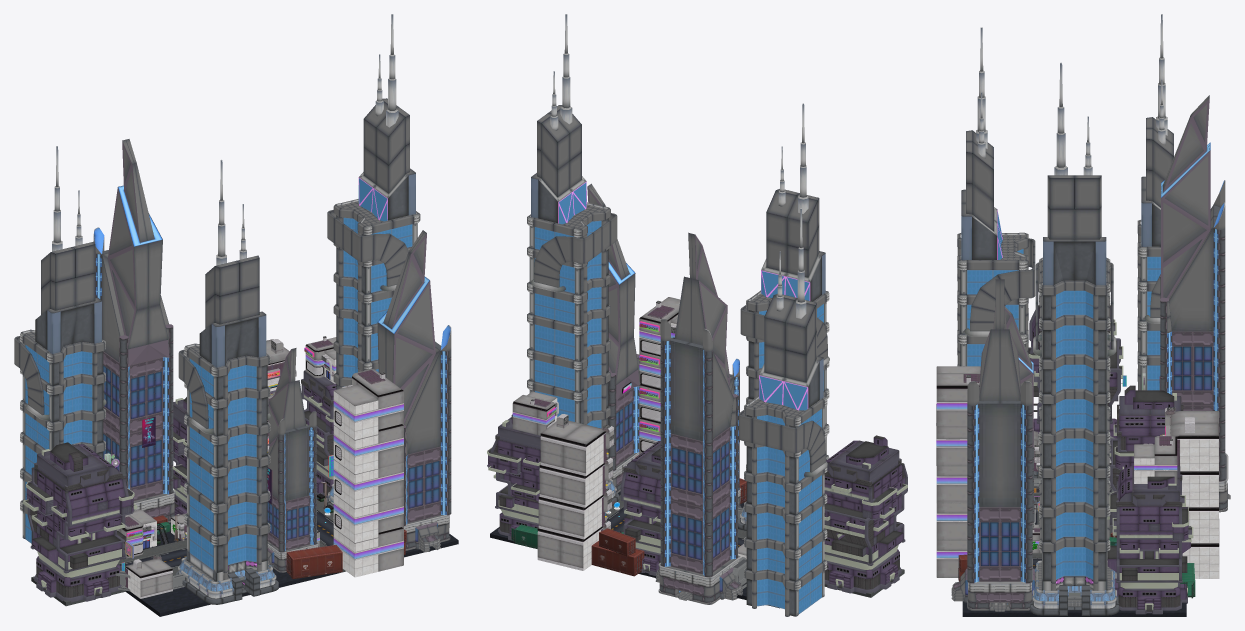
The model's file is downtown echo.glb.
The picture shows the model from 3 angles, left to right: view 1: azimuth 30°, elevation 25°; view 2: azimuth 150°, elevation 25°; view 3: azimuth 270°, elevation 25°; orthographic projection. The views are drawn at different scales.
Parts seen in each view (by area): view 1: mesh; view 2: mesh; view 3: mesh.
Boxes of the visible parts, box(x1,y1,x2,y2) form: mesh: box(14, 14, 458, 616); mesh: box(487, 14, 907, 616); mesh: box(936, 14, 1230, 616).
Size of what is drawn, in the model's own units: 201 by 259 by 126.
Materials: 36 (31 with a texture image).
